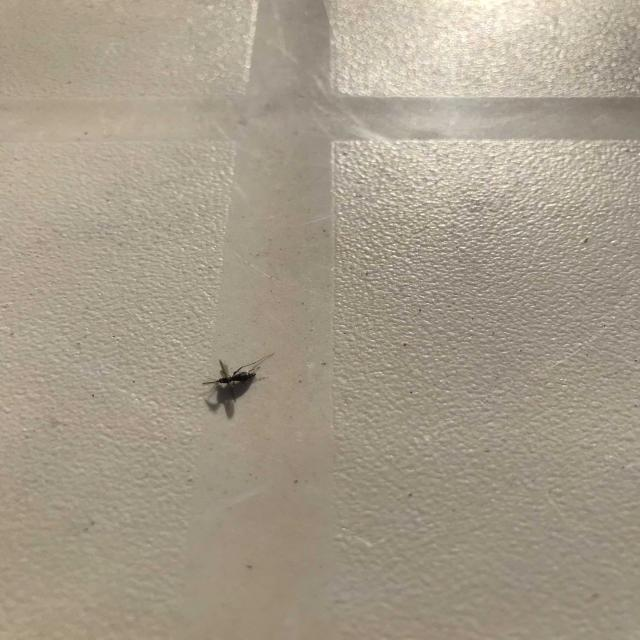albopictus: (195, 347, 275, 415)
